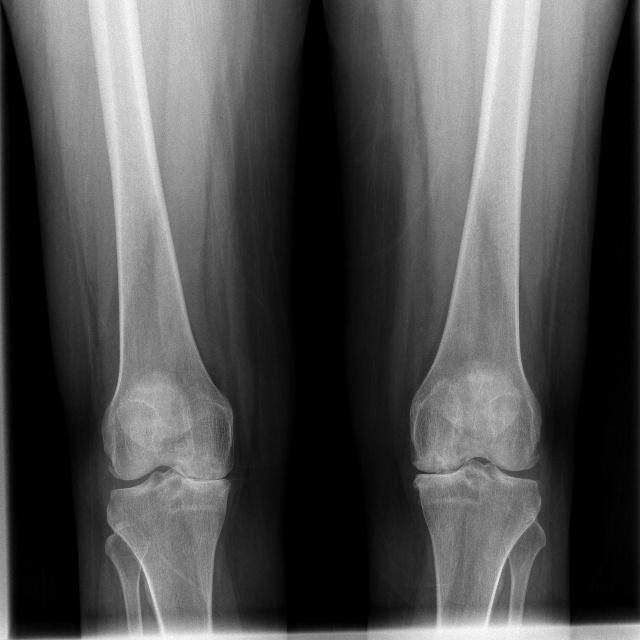Knee: (404, 408, 541, 534), (100, 414, 236, 530)
